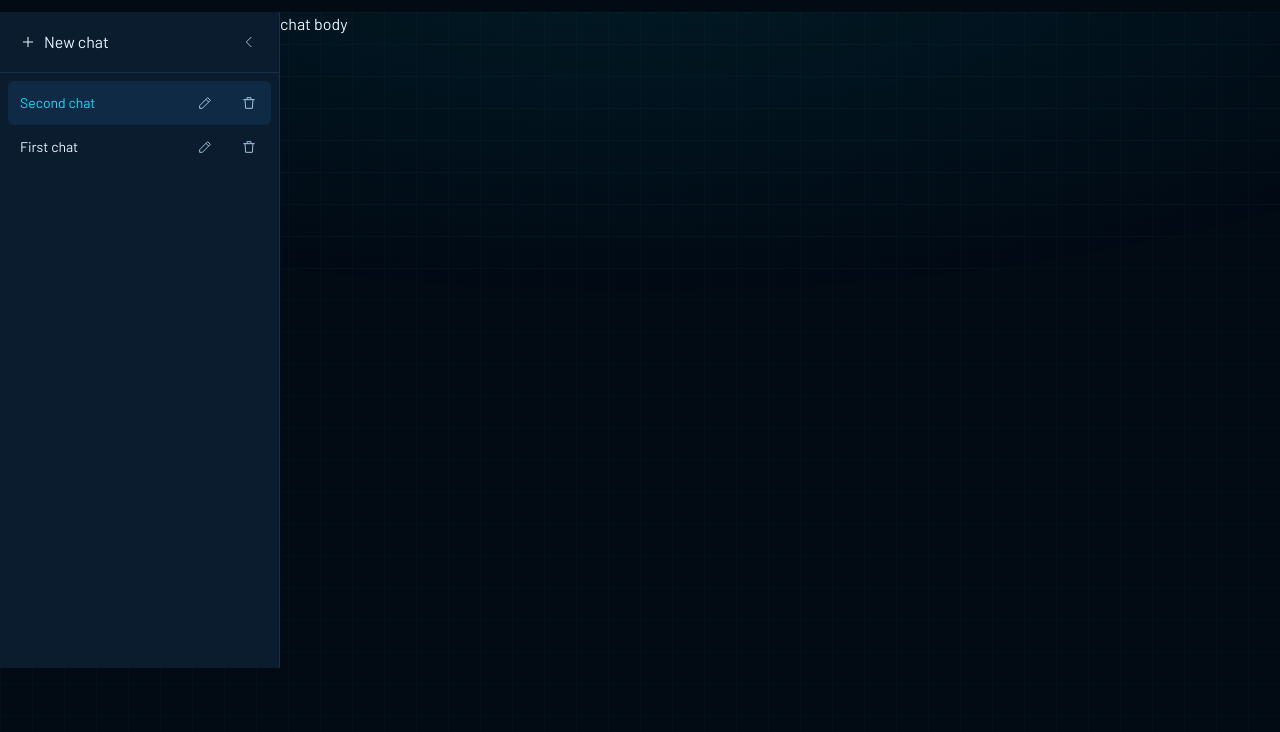
Test: conversation panel (M2-7) › shows the rename error and keeps the old title
The width and height of the screenshot is (1280, 732).
Click the button named "Rename Second chat" at [205, 103], box [183,81,227,125]
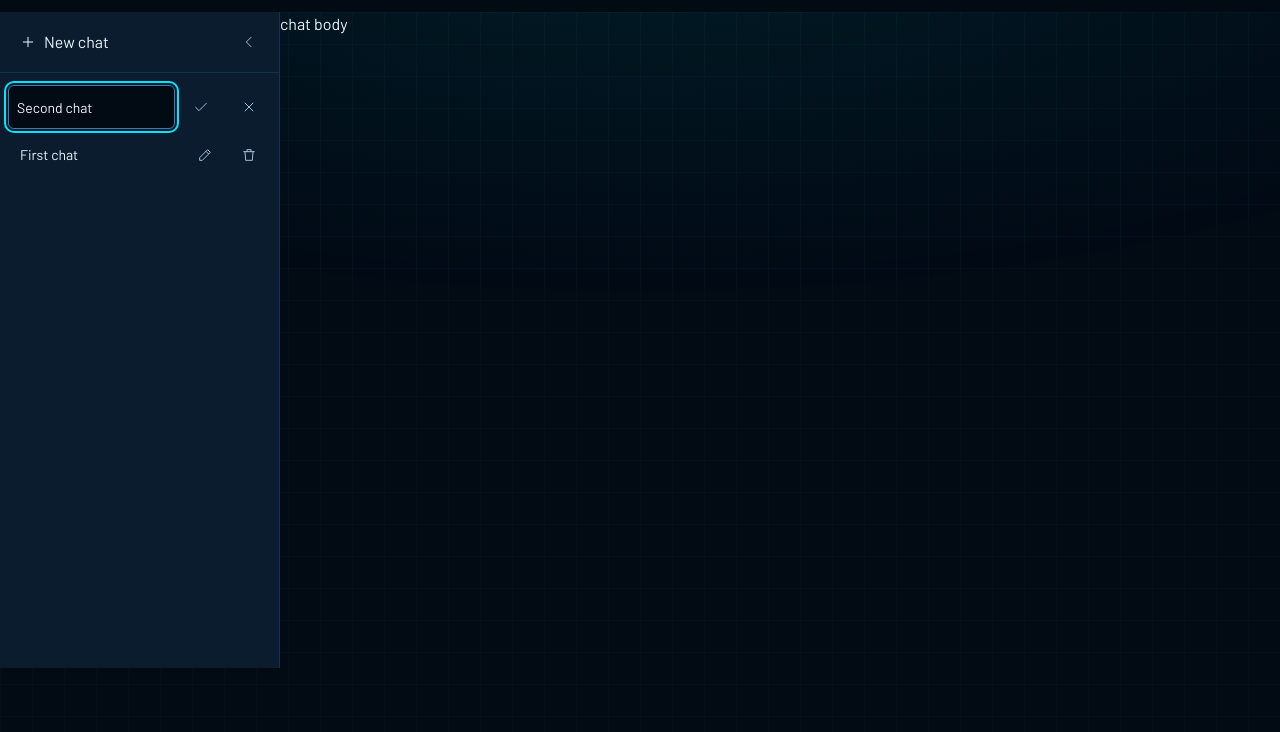
Click the button named "Save title" at [201, 107], box [179,85,223,129]
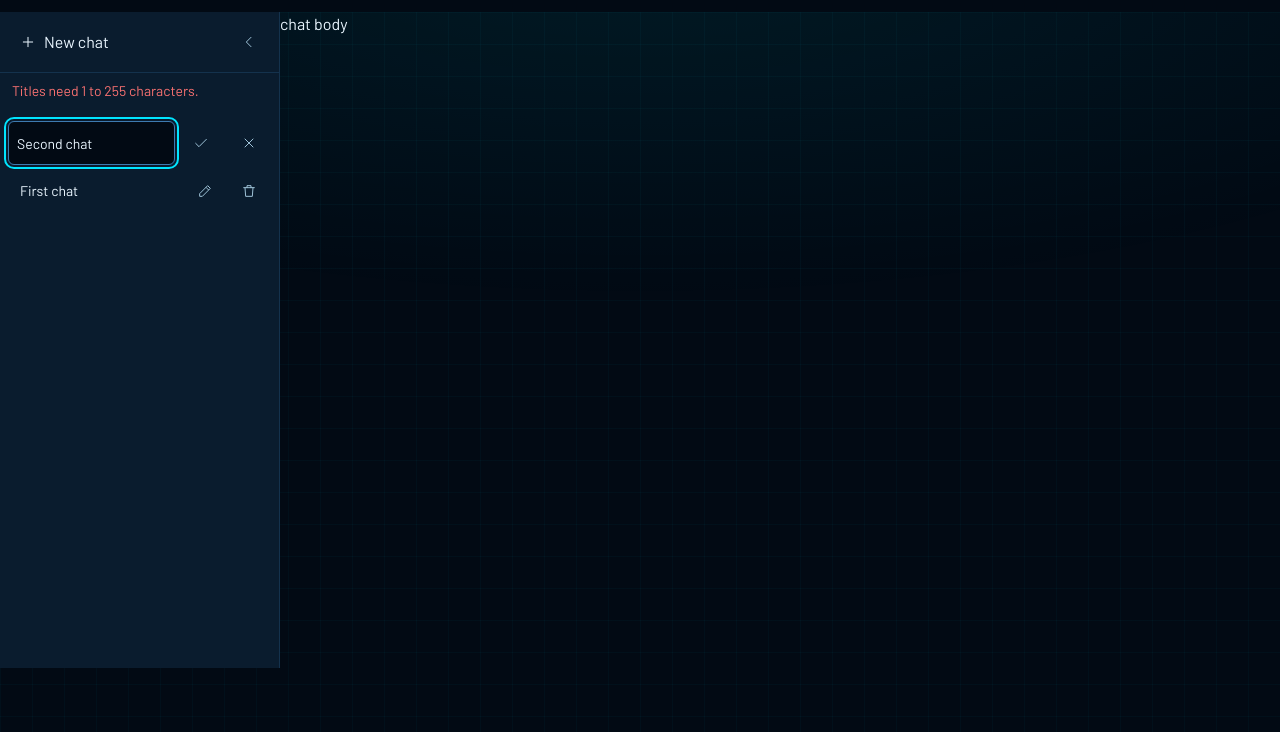
Expected: the field named "New title" holds "Second chat", [8,121,175,165]
Expected: the message reads "Titles need 1 to 255 characters.", [12,82,199,99]
